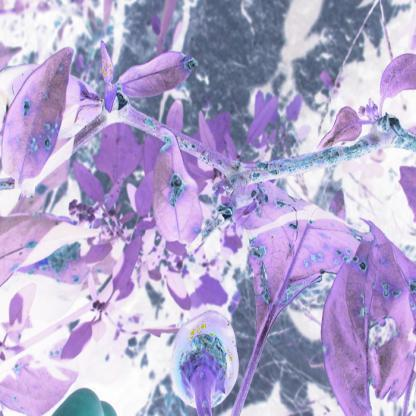Bell_pepper leaf: (318, 216, 414, 414), (0, 45, 78, 194), (150, 126, 204, 250), (114, 44, 206, 106)
